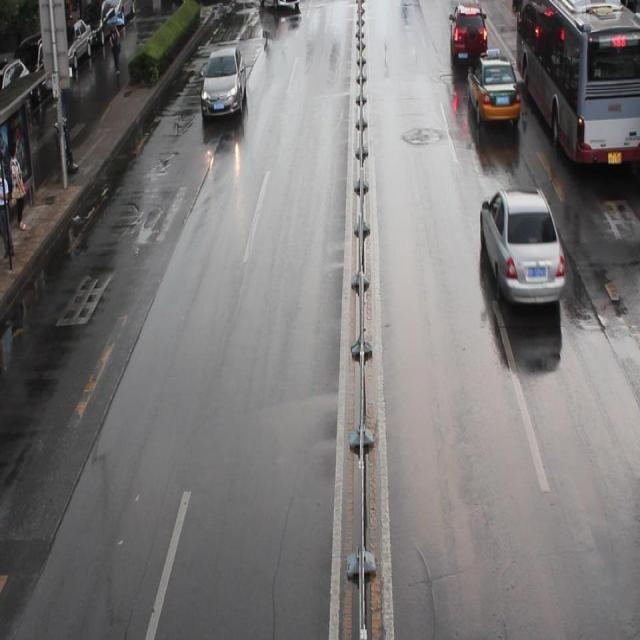car: (479, 186, 564, 302), (464, 53, 519, 120), (200, 44, 246, 117), (448, 1, 487, 62), (259, 1, 301, 7)
van: (513, 1, 640, 167)
